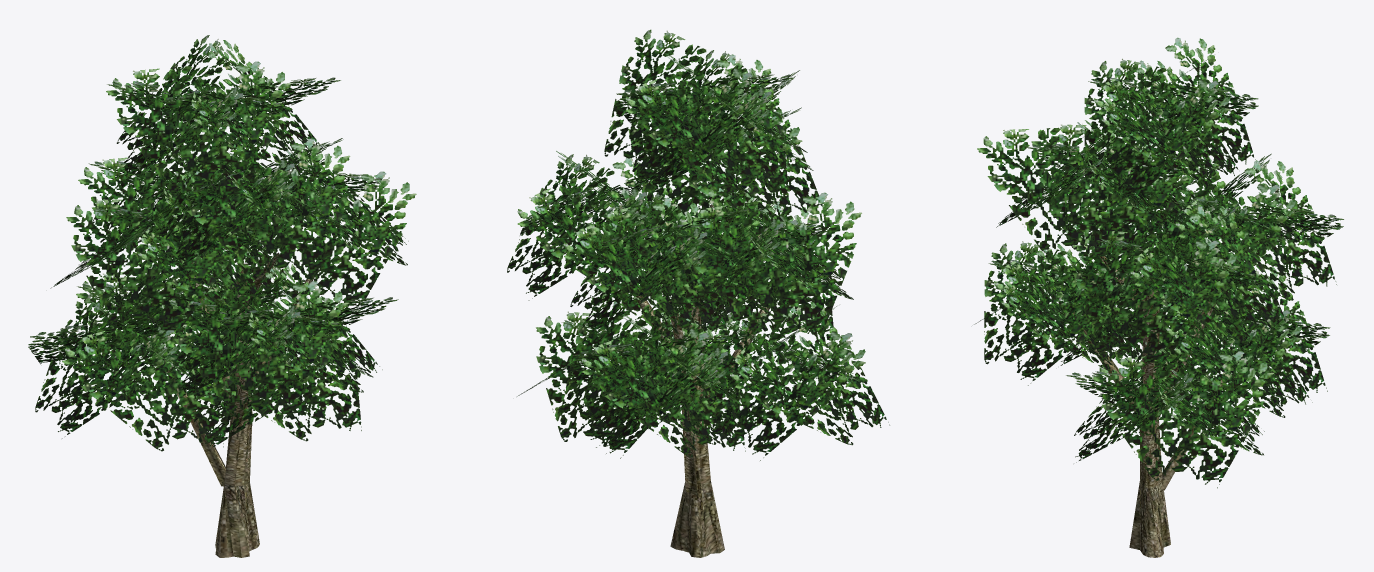
File: 0ad-ancient.e6baf49b607c.large-oak.glb
3 renders of one model, left to right at view 1: azimuth 30°, elevation 25°; view 2: azimuth 150°, elevation 25°; view 3: azimuth 270°, elevation 25°, orthographic. The views are drawn at different scales.
Parts seen in each view (by area): view 1: flora/trees/oak_large.xml; view 2: flora/trees/oak_large.xml; view 3: flora/trees/oak_large.xml.
Part boxes in pixels (x1=…): flora/trees/oak_large.xml: x1=28, y1=35, x2=416, y2=557; flora/trees/oak_large.xml: x1=507, y1=29, x2=889, y2=557; flora/trees/oak_large.xml: x1=974, y1=37, x2=1343, y2=557.
Size of the model in its own units: 18.58 by 20.7 by 16.47.
Materials: 1 (1 with a texture image).
